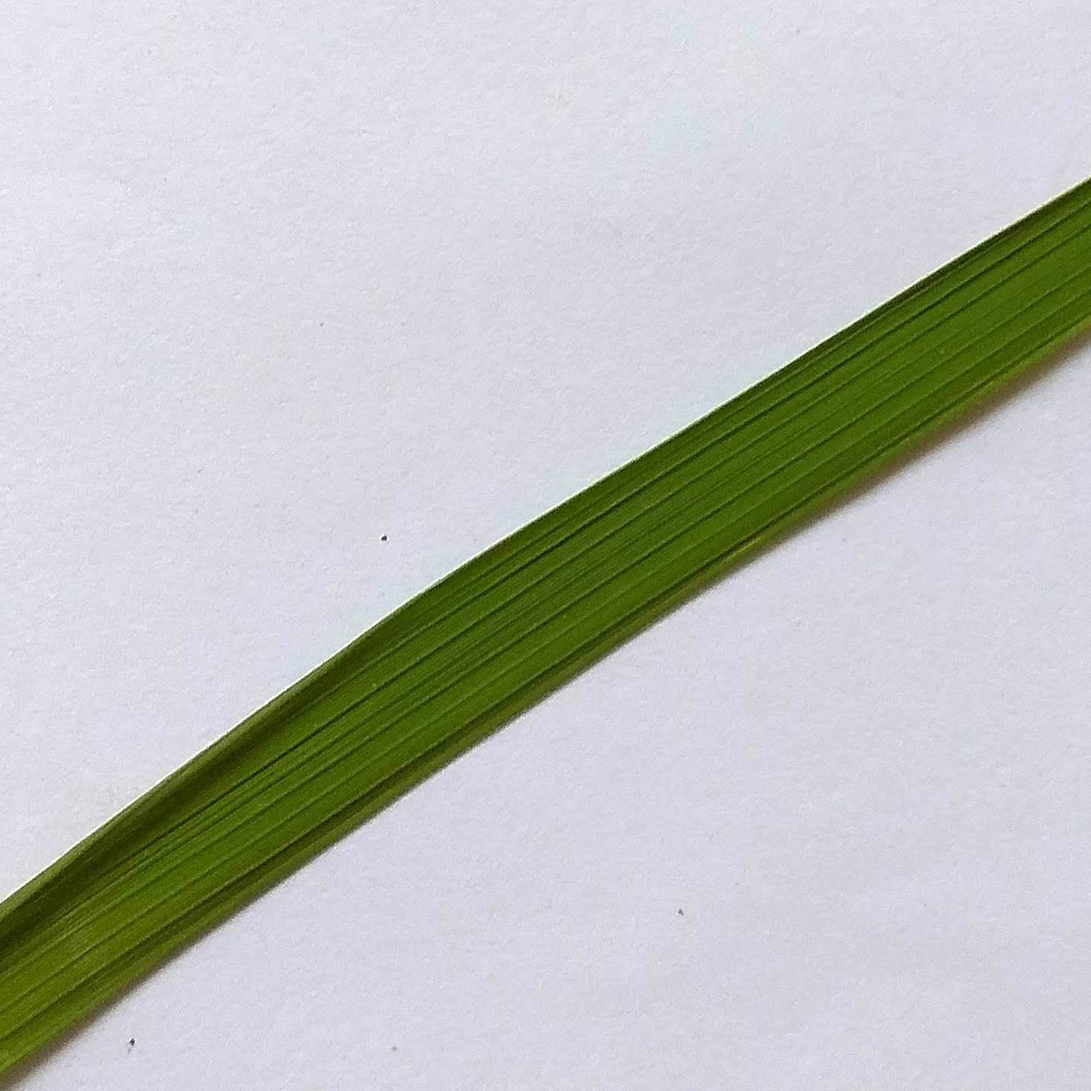Healthy: (0, 180, 1090, 1073)
